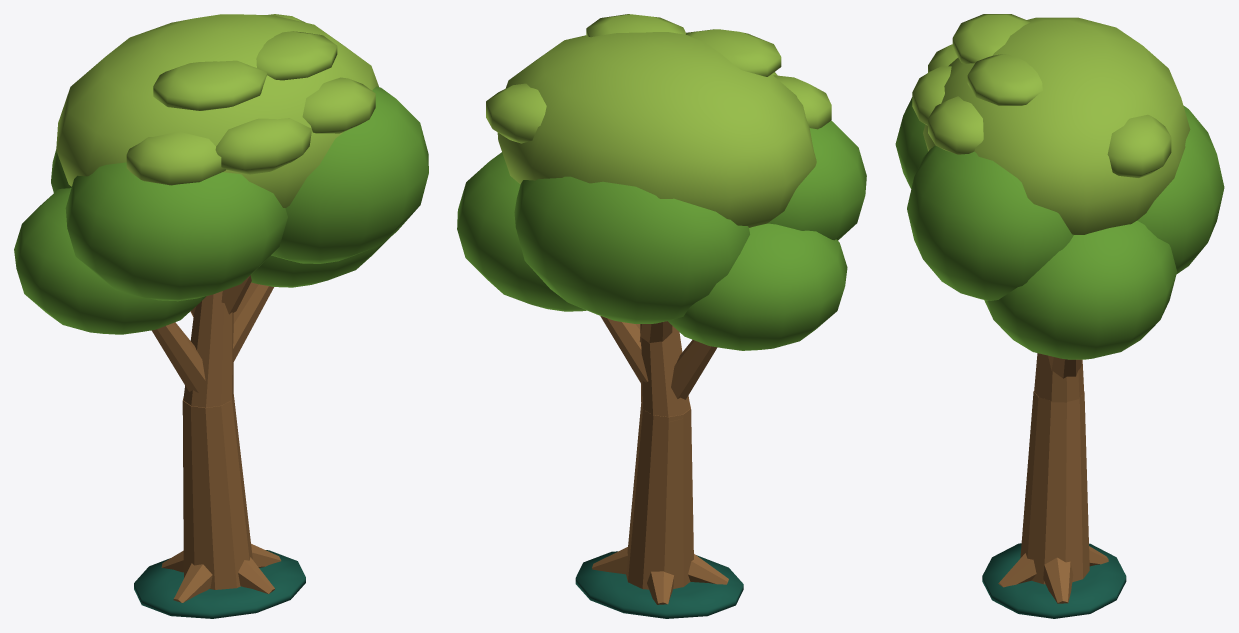
The model's file is tree-round.glb.
3 renders of one model, left to right at view 1: azimuth 30°, elevation 25°; view 2: azimuth 150°, elevation 25°; view 3: azimuth 270°, elevation 25°, orthographic. The views are drawn at different scales.
Parts seen in each view (by area): view 1: Boulevard_leaf, Boulevard_leaf_light, Boulevard_bark, Boulevard_dark_green.003; view 2: Boulevard_leaf, Boulevard_leaf_light, Boulevard_bark, Boulevard_dark_green.003; view 3: Boulevard_leaf, Boulevard_leaf_light, Boulevard_bark, Boulevard_dark_green.003.
Boxes of the visible parts, x1,y1,x2,y2 form: Boulevard_leaf: (14,86,428,334); Boulevard_leaf_light: (56,14,378,207); Boulevard_bark: (151,275,281,602); Boulevard_dark_green.003: (134,550,305,618); Boulevard_leaf: (457,120,866,350); Boulevard_leaf_light: (486,14,831,227); Boulevard_bark: (592,316,728,604); Boulevard_dark_green.003: (575,551,743,618); Boulevard_leaf: (895,97,1224,359); Boulevard_leaf_light: (912,14,1190,234); Boulevard_bark: (998,353,1108,603); Boulevard_dark_green.003: (982,543,1126,618).
Size of the model in its own units: 2.2 by 3.2 by 1.74.
